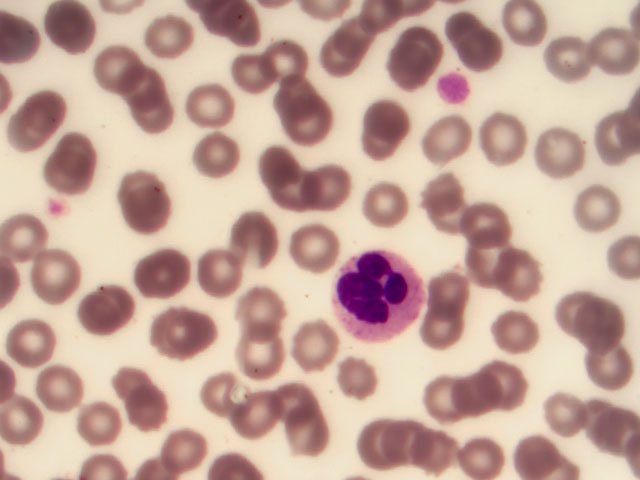Platelets: (439, 72, 472, 105), (40, 198, 71, 218)
RBC: (385, 22, 445, 92), (460, 14, 520, 84), (538, 24, 598, 94), (492, 1, 552, 70), (591, 15, 640, 84), (324, 19, 372, 88), (12, 84, 68, 138), (38, 148, 94, 202), (47, 129, 103, 183), (115, 174, 171, 228), (126, 93, 182, 147), (124, 61, 180, 115), (104, 46, 160, 100), (139, 13, 195, 67), (186, 82, 242, 136), (199, 130, 255, 184), (222, 54, 278, 108), (261, 37, 317, 91), (269, 74, 325, 128), (285, 95, 341, 149), (361, 91, 417, 145), (309, 161, 365, 215), (261, 168, 317, 222), (252, 140, 308, 194), (359, 180, 415, 234), (416, 175, 472, 229), (422, 112, 478, 166), (477, 110, 533, 164), (533, 128, 589, 182), (572, 179, 628, 233), (500, 251, 556, 305), (457, 238, 513, 292), (459, 207, 515, 261), (422, 257, 478, 311), (419, 304, 475, 358), (493, 306, 549, 360), (543, 286, 599, 340), (578, 294, 634, 348), (584, 339, 640, 393), (534, 388, 590, 442), (584, 395, 640, 449), (452, 426, 508, 480), (414, 426, 470, 480), (385, 418, 441, 472), (355, 418, 411, 472), (414, 369, 470, 423), (450, 363, 506, 417), (478, 361, 534, 415), (326, 356, 382, 410), (295, 319, 351, 373), (234, 328, 290, 382), (234, 283, 290, 337), (230, 216, 286, 270), (286, 226, 342, 280), (200, 251, 256, 305), (134, 241, 190, 295), (159, 309, 215, 363), (83, 283, 139, 337), (106, 359, 162, 413), (125, 386, 181, 440), (160, 417, 216, 471), (75, 397, 131, 451), (35, 368, 91, 422), (11, 313, 67, 367), (30, 249, 86, 303), (1, 213, 56, 267), (41, 1, 97, 54)
WBC: (334, 250, 424, 342)
